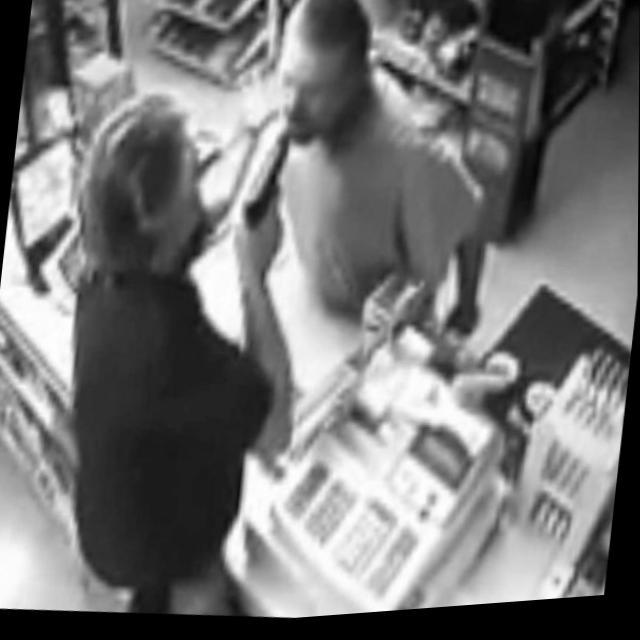weapon: (245, 124, 292, 235)
